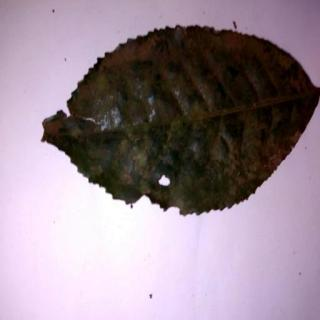Anthracnose: (38, 24, 320, 219)
